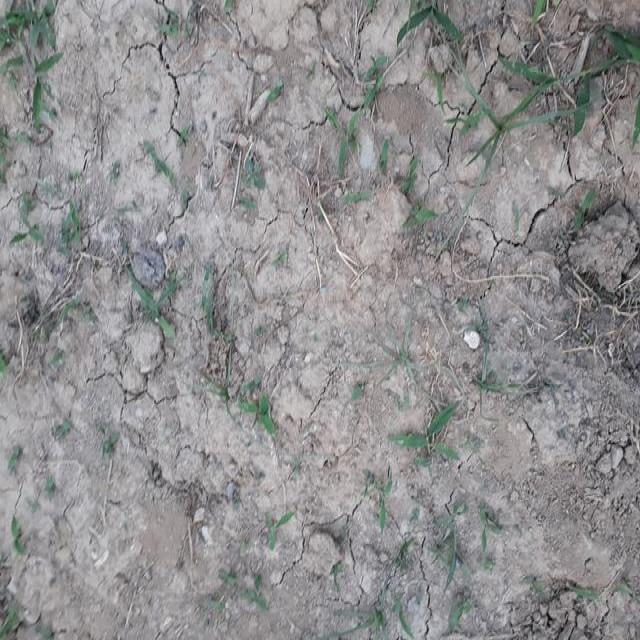weed: (469, 72, 560, 156), (4, 9, 64, 123), (318, 88, 362, 200), (425, 511, 468, 618), (391, 172, 433, 252), (396, 408, 461, 454), (212, 563, 276, 607), (124, 284, 172, 340), (403, 3, 467, 41), (234, 398, 282, 440)
